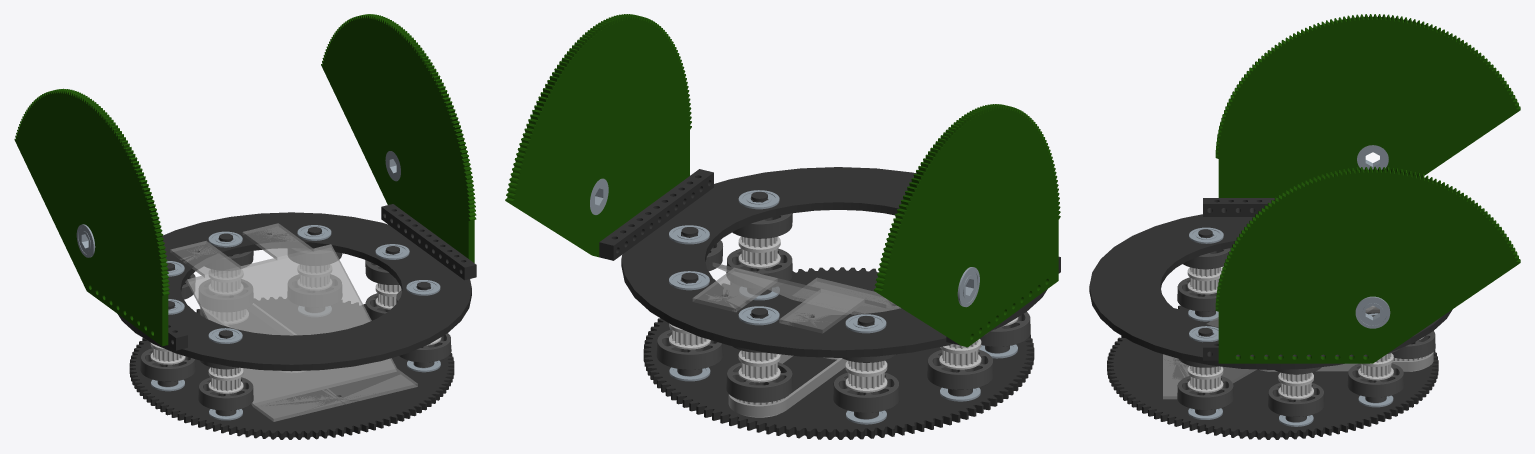
3 renders of one model, left to right at view 1: azimuth 30°, elevation 25°; view 2: azimuth 150°, elevation 25°; view 3: azimuth 270°, elevation 25°, orthographic. The views are drawn at different scales.
Visible parts, largest first — view 1: Part 1 (×5), Spur gear (220 teeth) (×2), 2" OD 1/2" Hex Bore Compliant Wheel 60A (am-3462) (×8), 18t 9mm Wide 1/2" Hex Bore Double Flange 5mm HTD Aluminum Pu (×3), .5" Hex ID 1.125" OD Flanged Bearing (217-2734); view 2: Spur gear (220 teeth) (×2), Part 1 (×5), 2" OD 1/2" Hex Bore Compliant Wheel 60A (am-3462) (×7), 18t 9mm Wide 1/2" Hex Bore Double Flange 5mm HTD Aluminum Pu (×5), .5" Hex ID 1.125" OD Flanged Bearing (217-2734); view 3: Spur gear (220 teeth) (×2), Part 1 (×5), 2" OD 1/2" Hex Bore Compliant Wheel 60A (am-3462) (×6), 18t 9mm Wide 1/2" Hex Bore Double Flange 5mm HTD Aluminum Pu (×4), .5" Hex ID 1.125" OD Flanged Bearing (217-2734) (×2).
Part boxes in pixels (x1,y1,x2,y2): Part 1 (×5): (118, 204, 476, 439); Spur gear (220 teeth) (×2): (14, 14, 476, 346); 2" OD 1/2" Hex Bore Compliant Wheel 60A (am-3462) (×8): (140, 248, 451, 410); 18t 9mm Wide 1/2" Hex Bore Double Flange 5mm HTD Aluminum Pu (×3): (208, 271, 331, 393); .5" Hex ID 1.125" OD Flanged Bearing (217-2734): (76, 224, 95, 257); Spur gear (220 teeth) (×2): (505, 14, 1060, 347); Part 1 (×5): (599, 167, 1047, 439); 2" OD 1/2" Hex Bore Compliant Wheel 60A (am-3462) (×7): (656, 213, 1030, 412); 18t 9mm Wide 1/2" Hex Bore Double Flange 5mm HTD Aluminum Pu (×5): (669, 243, 981, 392); .5" Hex ID 1.125" OD Flanged Bearing (217-2734): (957, 267, 979, 307); Spur gear (220 teeth) (×2): (1215, 14, 1520, 363); Part 1 (×5): (1089, 198, 1452, 439); 2" OD 1/2" Hex Bore Compliant Wheel 60A (am-3462) (×6): (1177, 248, 1435, 416); 18t 9mm Wide 1/2" Hex Bore Double Flange 5mm HTD Aluminum Pu (×4): (1187, 273, 1393, 399); .5" Hex ID 1.125" OD Flanged Bearing (217-2734) (×2): (1355, 145, 1390, 328).
Size of the model in its own units: 0.3334 by 0.2845 by 0.3863.
